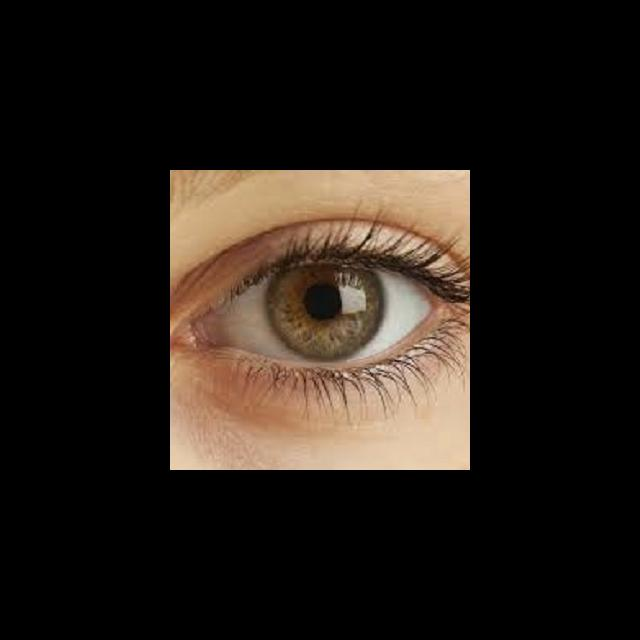eye: (217, 260, 434, 365)
iris: (266, 266, 386, 361)
